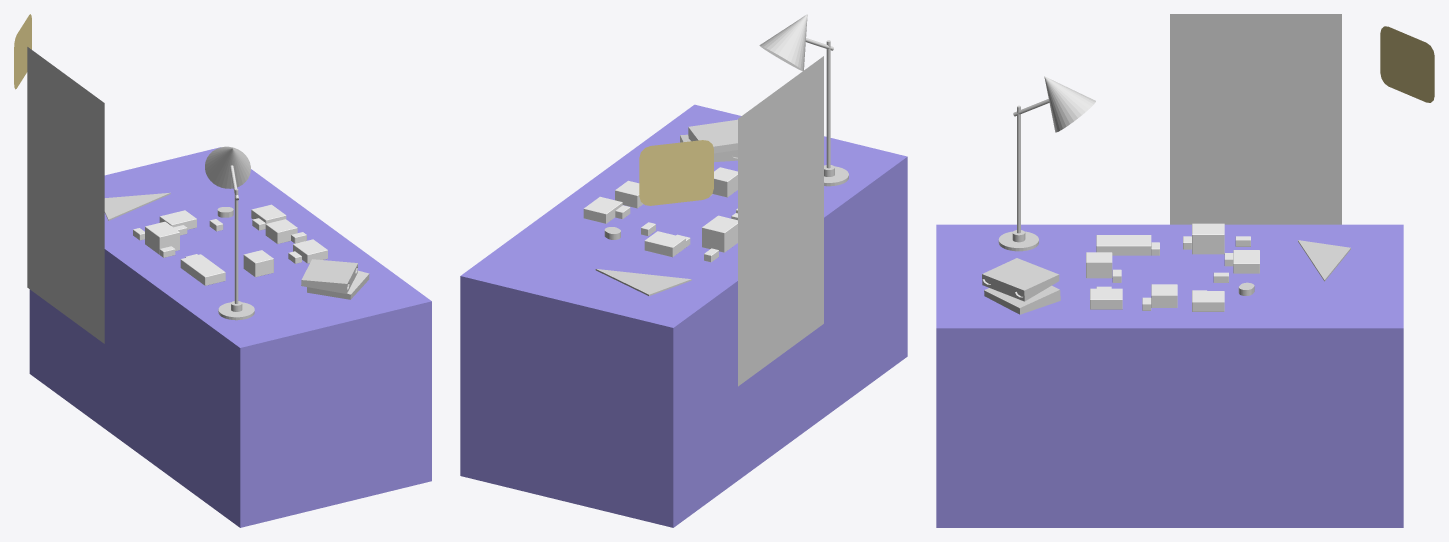
Rendered from pageLayout-07.glb.
The picture shows the model from 3 angles, left to right: view 1: azimuth 30°, elevation 25°; view 2: azimuth 150°, elevation 25°; view 3: azimuth 270°, elevation 25°; orthographic projection. The views are drawn at different scales.
Visible parts, largest first — view 1: deskPlane, pictureFrame, Cylinder.014, Cube.019, neighboar_002, greetingBox, Plane.007, neighboar_005, neighboar_003, neighboar_012, Cube.018, neighboar_010 (+1 smaller); view 2: deskPlane, pictureFrame, greetingBox, Cylinder.014, Cube.019, Plane.007, neighboar_005, neighboar_001, neighboar_015, neighboar_003, neighboar_012; view 3: deskPlane, pictureFrame, greetingBox, Cylinder.014, Cube.019, neighboar_002, Cube.018, Plane.007, neighboar_005, neighboar_003, neighboar_010, neighboar_015 (+2 smaller).
Boxes of the visible parts, <box> form: deskPlane: <box>29,147,431,527</box>; pictureFrame: <box>27,47,104,343</box>; Cylinder.014: <box>205,146,254,320</box>; Cube.019: <box>301,259,357,293</box>; neighboar_002: <box>180,254,225,285</box>; greetingBox: <box>14,14,31,89</box>; Plane.007: <box>104,192,170,220</box>; neighboar_005: <box>145,221,179,254</box>; neighboar_003: <box>243,250,273,277</box>; neighboar_012: <box>265,219,297,243</box>; Cube.018: <box>307,270,369,299</box>; neighboar_010: <box>293,239,327,263</box>; deskPlane: <box>460,104,907,527</box>; pictureFrame: <box>738,56,823,386</box>; greetingBox: <box>639,140,713,205</box>; Cylinder.014: <box>759,14,848,186</box>; Cube.019: <box>688,119,737,153</box>; Plane.007: <box>595,269,691,295</box>; neighboar_005: <box>702,215,737,252</box>; neighboar_001: <box>644,231,685,257</box>; neighboar_015: <box>583,196,622,223</box>; neighboar_003: <box>712,167,737,197</box>; neighboar_012: <box>615,180,642,208</box>; deskPlane: <box>936,224,1403,527</box>; pictureFrame: <box>1170,14,1341,224</box>; greetingBox: <box>1380,26,1434,102</box>; Cylinder.014: <box>998,76,1095,251</box>; Cube.019: <box>982,258,1059,301</box>; neighboar_002: <box>1096,235,1151,255</box>; Cube.018: <box>984,285,1060,314</box>; Plane.007: <box>1298,240,1350,281</box>; neighboar_005: <box>1192,223,1224,254</box>; neighboar_003: <box>1086,252,1112,278</box>; neighboar_010: <box>1090,288,1122,309</box>; neighboar_015: <box>1192,291,1224,311</box>.
Bounding box in the file's own units: 129 × 197 × 226.
